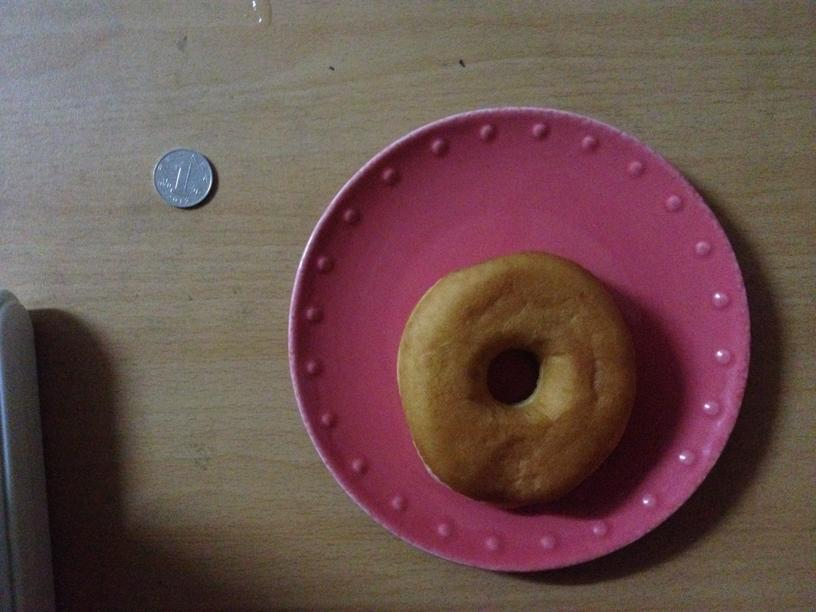coin: (147, 143, 225, 221)
doughnut: (399, 254, 627, 505)
